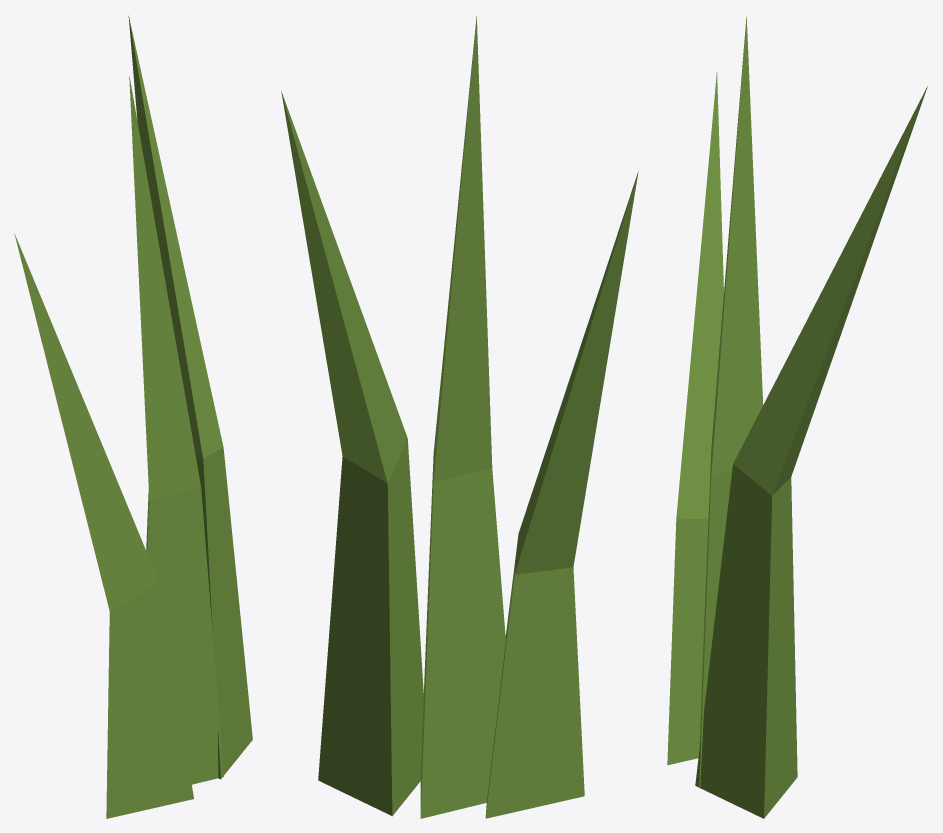
File: TB_Env_Grass_Tall_B.FBX
The picture shows the model from 3 angles, left to right: view 1: azimuth 30°, elevation 25°; view 2: azimuth 150°, elevation 25°; view 3: azimuth 270°, elevation 25°; orthographic projection. The views are drawn at different scales.
Visible parts, largest first — view 1: TB_Env_Grass_Tall_B; view 2: TB_Env_Grass_Tall_B; view 3: TB_Env_Grass_Tall_B.
Boxes of the visible parts, x1,y1,x2,y2 form: TB_Env_Grass_Tall_B: (14, 15, 252, 818); TB_Env_Grass_Tall_B: (281, 16, 638, 818); TB_Env_Grass_Tall_B: (667, 16, 927, 818).
Size of the model in its own units: 0.5437 by 1.4 by 0.4496.
